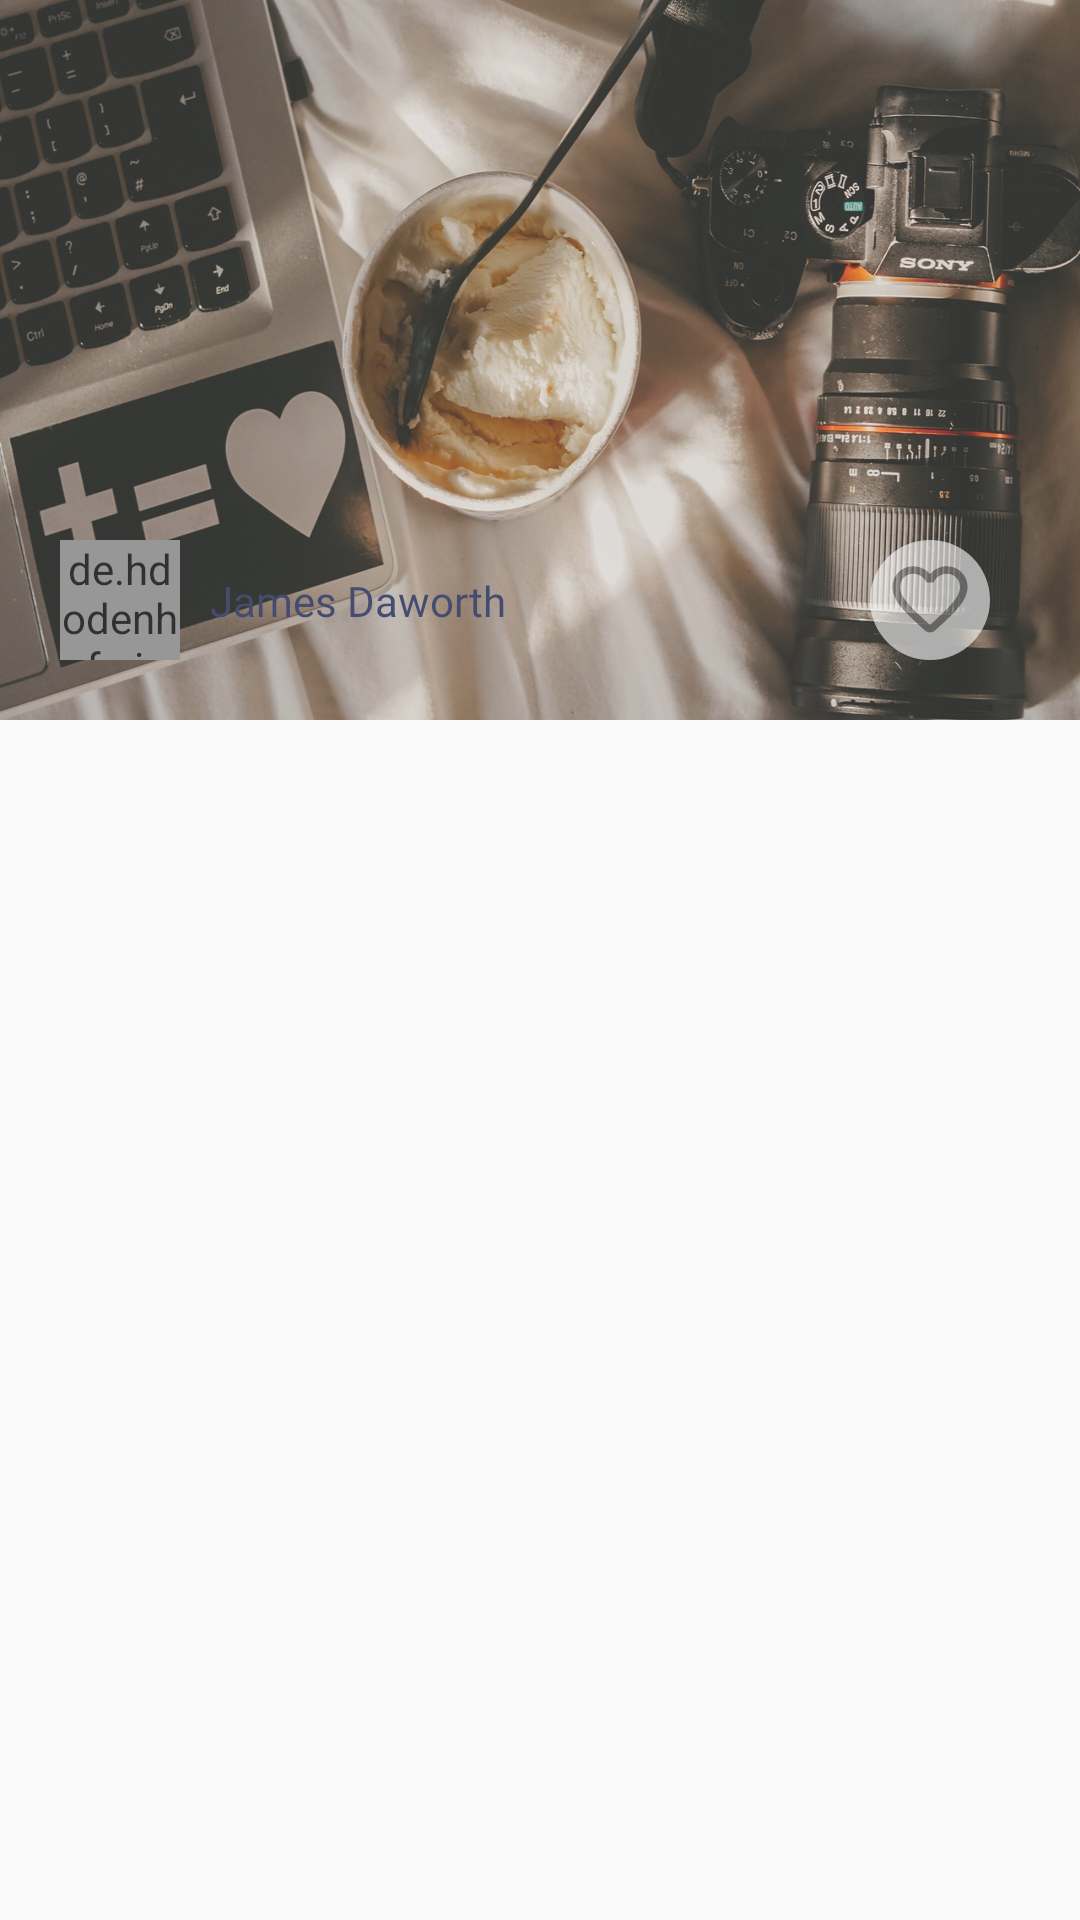

Where to tap for icons on this 1080 × 1920 app screen, as (x,y):
like: (930,600)
